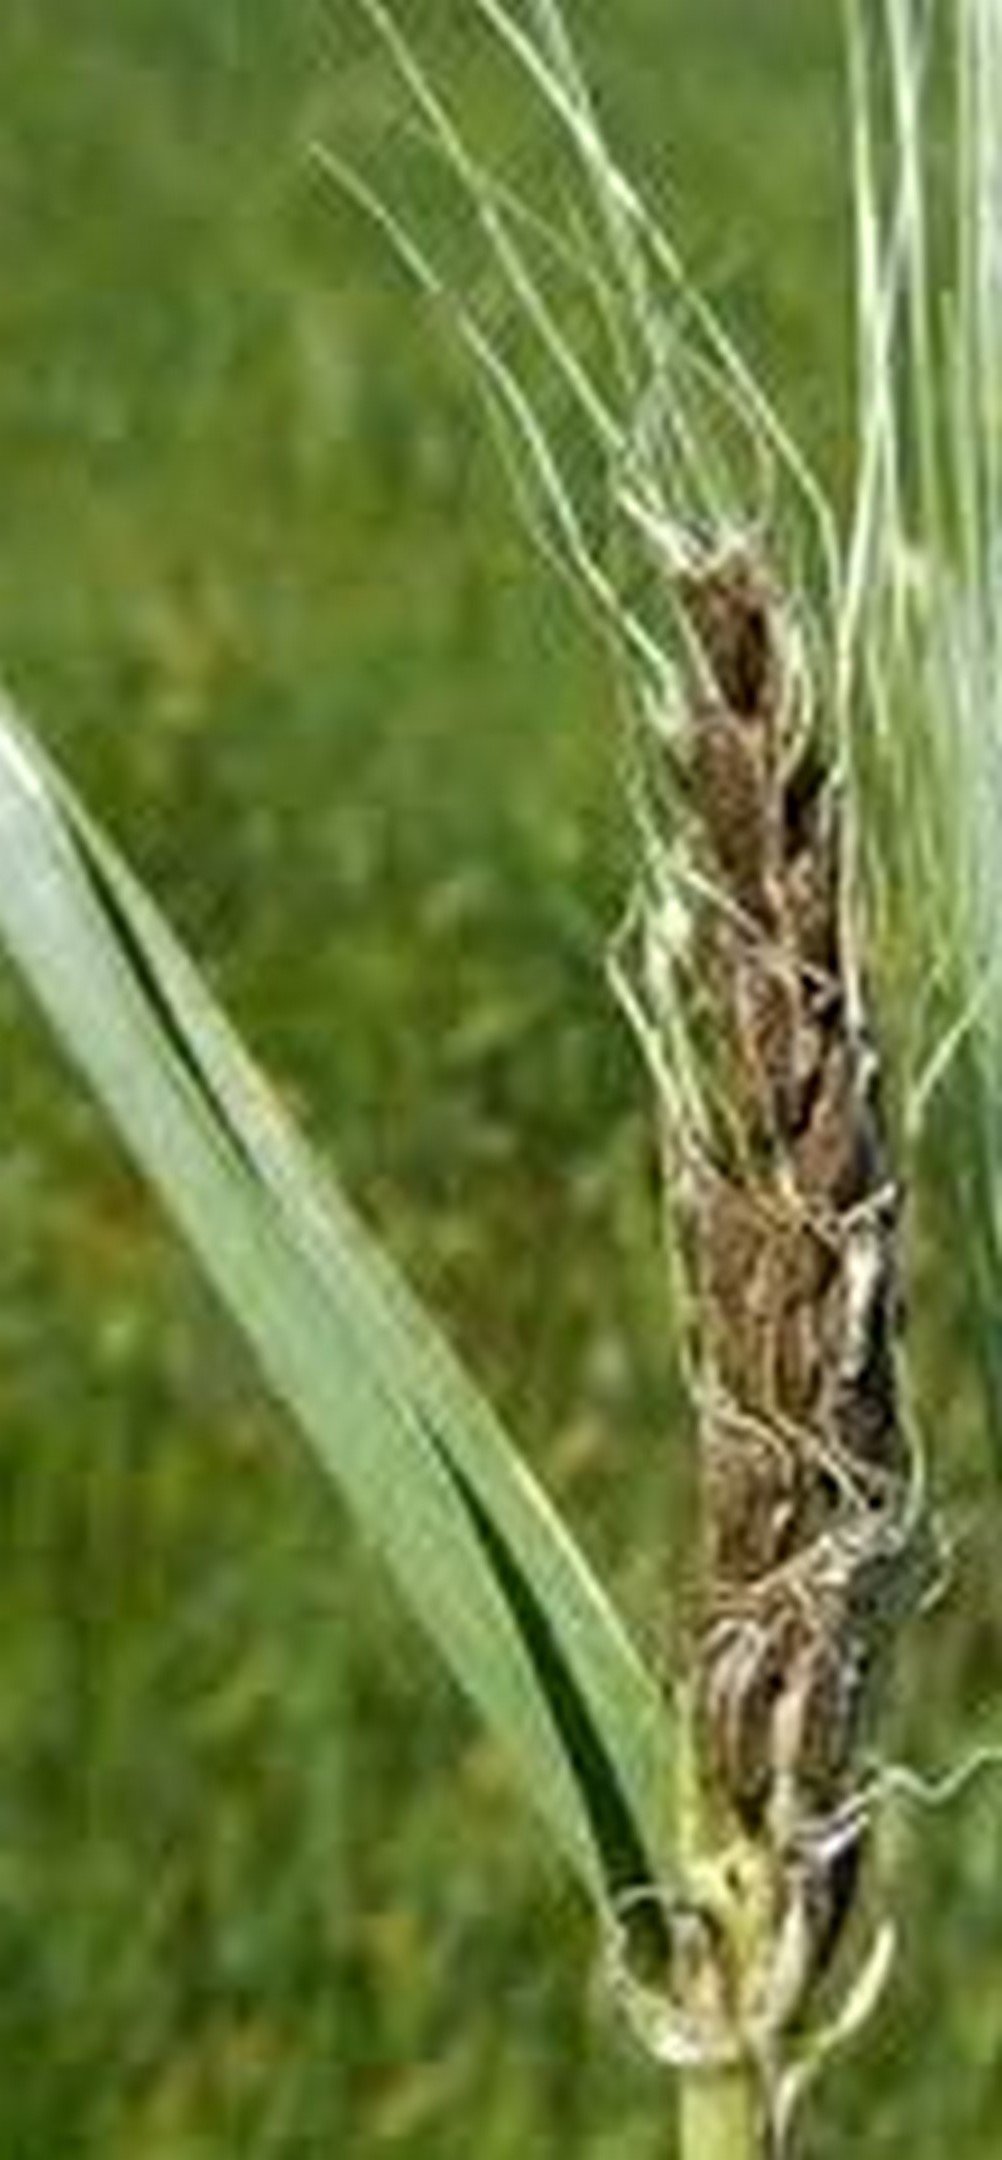Wheat Loose Smut: (504, 510, 951, 1798)
